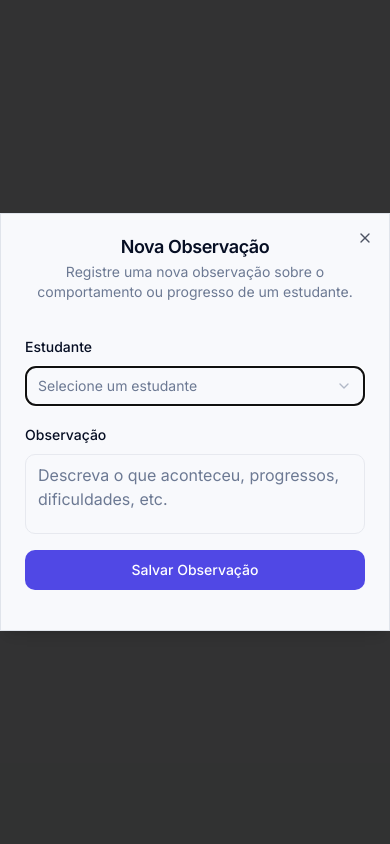
Test: NewNoteDialog Component › deve validar campos obrigatórios (impedir envio vazio)
Note: Tenta salvar sem preencher nada
Click the button "Salvar Observação": (195, 570) [25,550,365,590]
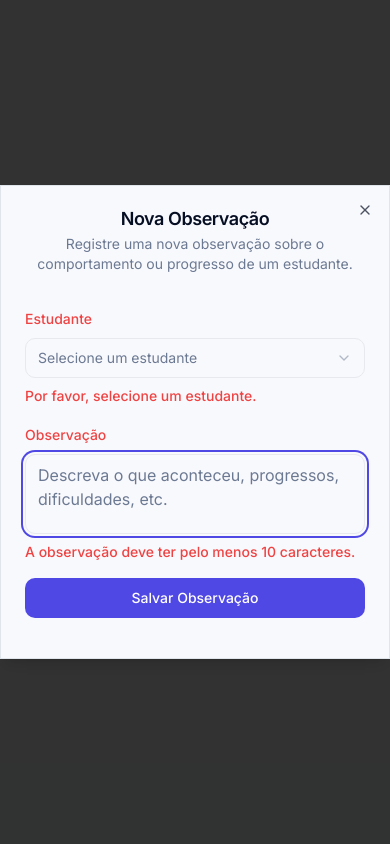
Expected: the text "Por favor, selecione um estudante." is shown, [25,387,256,404]
Expected: the text "A observação deve ter pelo menos 10 caracteres." is shown, [25,542,365,562]
